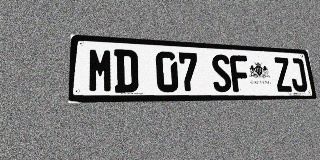0: (155, 51, 179, 92)
7: (177, 52, 200, 92)
D: (114, 49, 139, 93)
F: (229, 55, 251, 92)
J: (288, 58, 308, 92)
M: (88, 48, 113, 93)
S: (211, 54, 233, 92)
Z: (273, 57, 293, 92)
